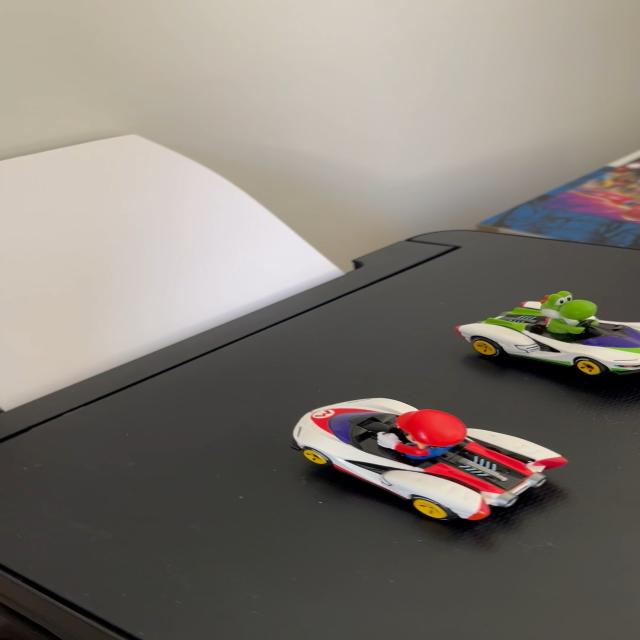mario: (265, 396, 580, 534)
yoshi: (447, 287, 640, 381)
